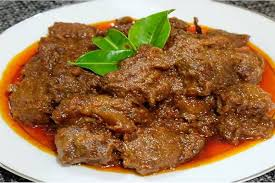rendang: (8, 9, 275, 171)
